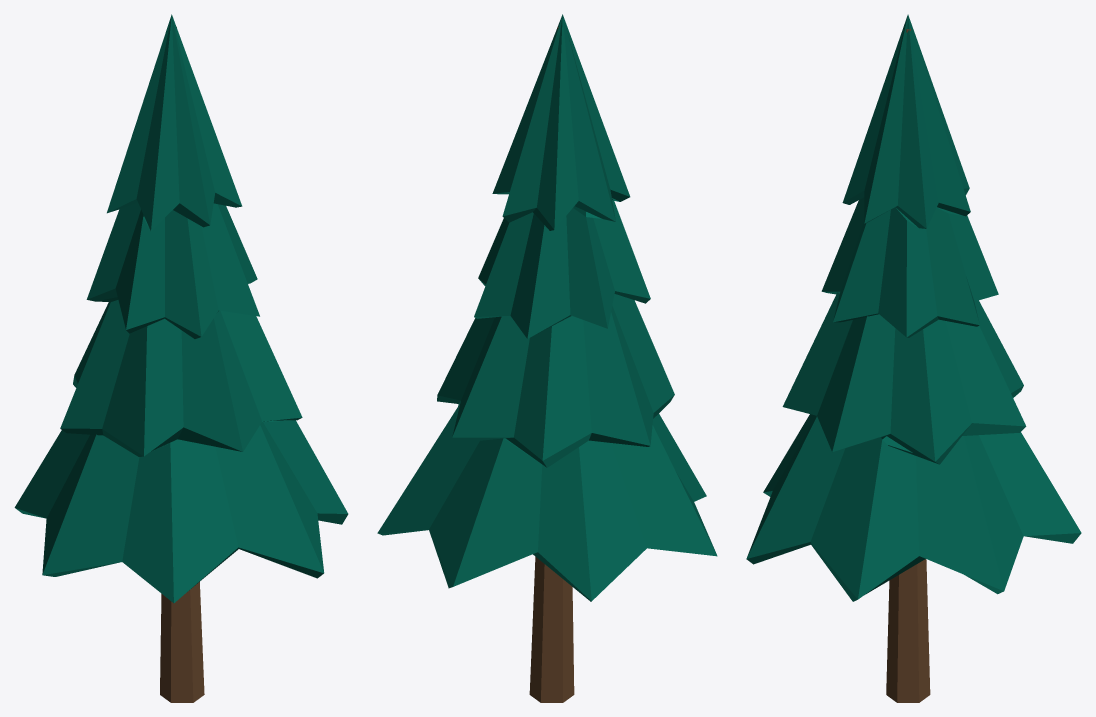
Rendered from PineTree.005.fbx.
3 renders of one model, left to right at view 1: azimuth 30°, elevation 25°; view 2: azimuth 150°, elevation 25°; view 3: azimuth 270°, elevation 25°, orthographic.
Parts seen in each view (by area): view 1: PineTree.005; view 2: PineTree.005; view 3: PineTree.005.
Boxes of the visible parts, left/top/right/bottom form: PineTree.005: left=14, top=14, right=348, bottom=702; PineTree.005: left=377, top=14, right=717, bottom=702; PineTree.005: left=746, top=14, right=1081, bottom=702.
Size of the model in its own units: 759 by 1689 by 760.
